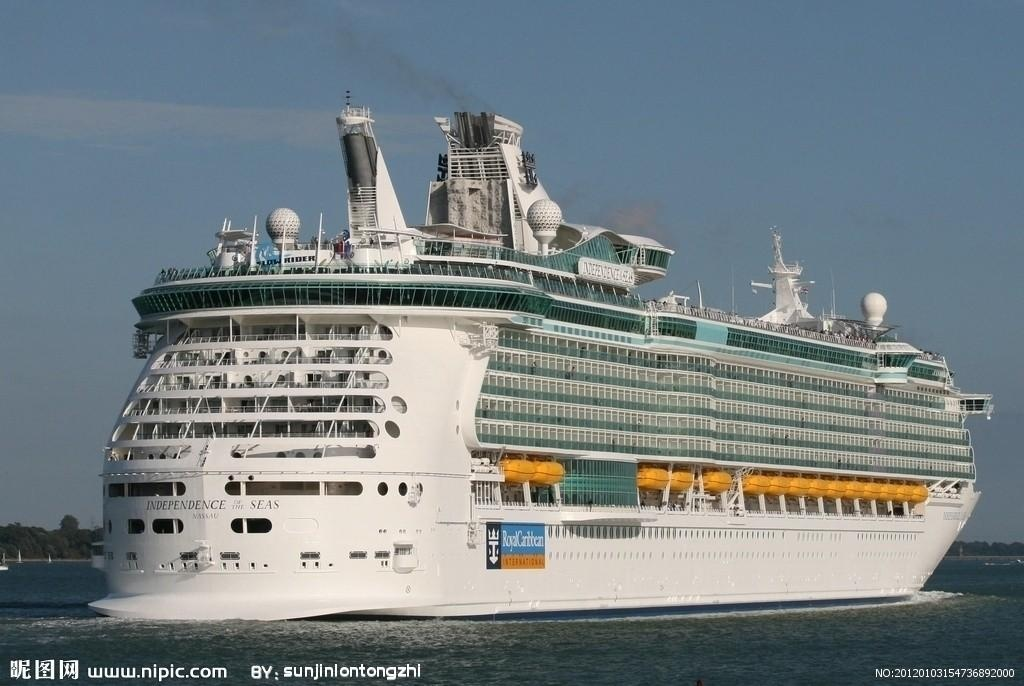youlun: (76, 109, 995, 626)
